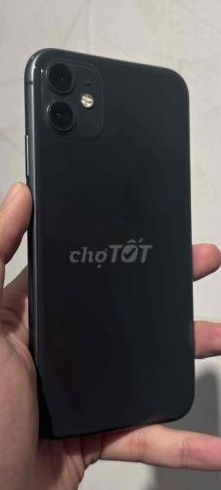scratch: (32, 57, 108, 130)
